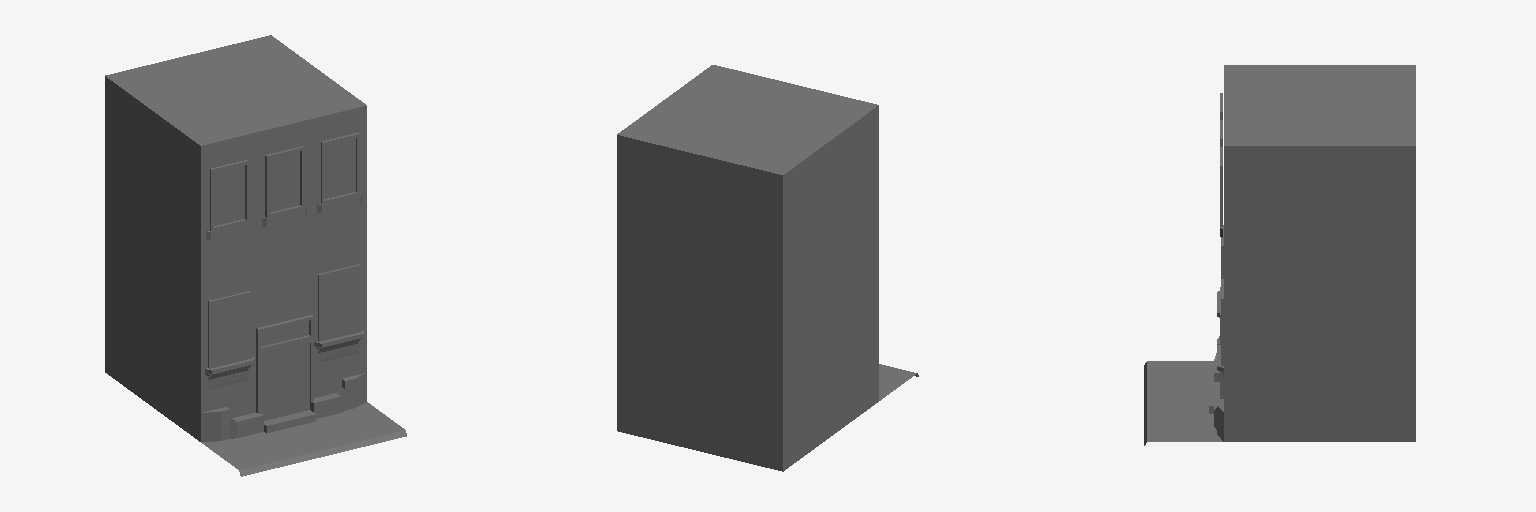
Rendered from test_bilding.obj.
3 renders of one model, left to right at view 1: azimuth 30°, elevation 25°; view 2: azimuth 150°, elevation 25°; view 3: azimuth 270°, elevation 25°, orthographic.
Parts seen in each view (by area): view 1: base3; view 2: base3; view 3: base3.
Boxes of the visible parts, x1=… form: base3: x1=105, y1=35, x2=406, y2=476; base3: x1=617, y1=65, x2=918, y2=471; base3: x1=1144, y1=65, x2=1415, y2=445.
Size of the model in its own units: 10 by 17.31 by 14.17.